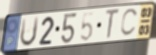2: (37, 14, 57, 48)
5: (60, 13, 78, 45), (79, 10, 95, 42)
C: (119, 8, 140, 38)
T: (105, 7, 121, 41)
U: (19, 15, 41, 48)
